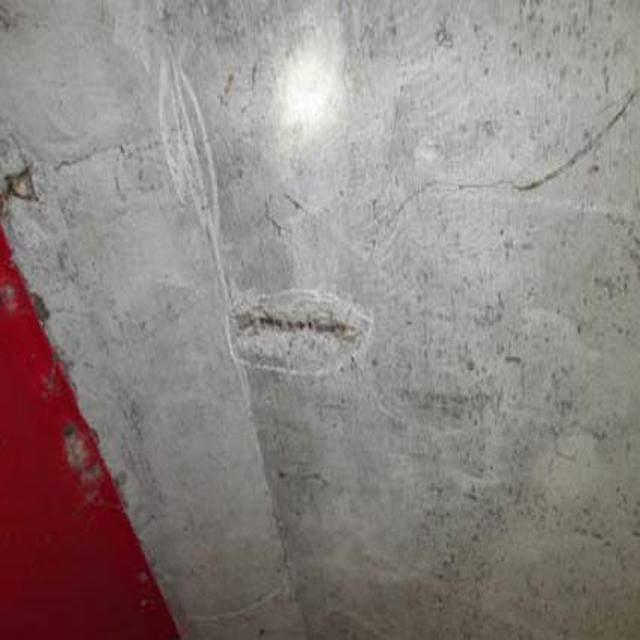spalling: (233, 281, 373, 386), (5, 143, 64, 253)
